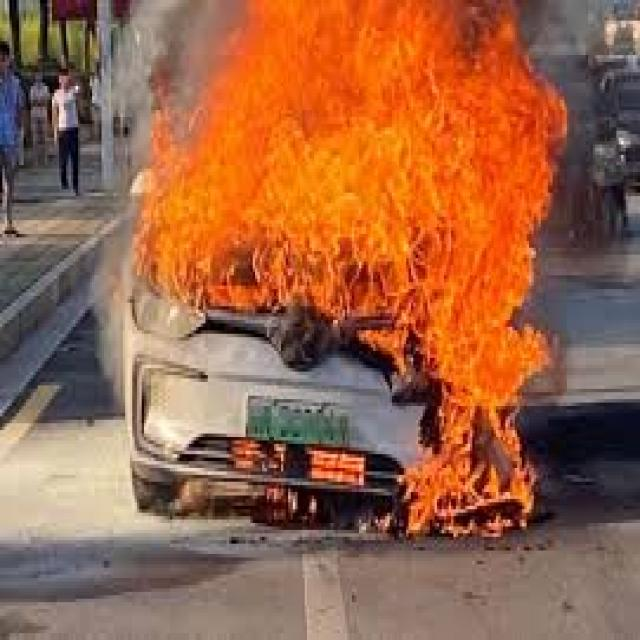fire: (135, 3, 569, 540)
